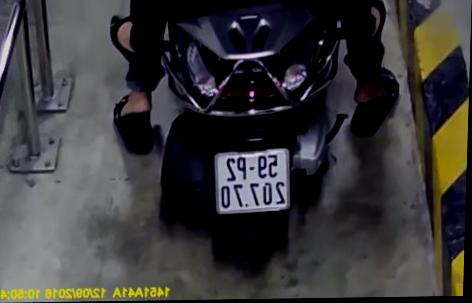License_Plate: (208, 142, 299, 225)
